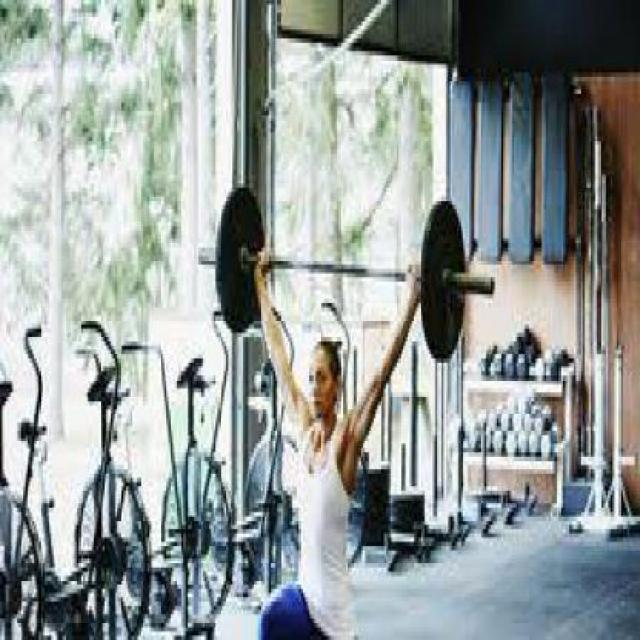Barbell: (484, 260, 502, 308)
